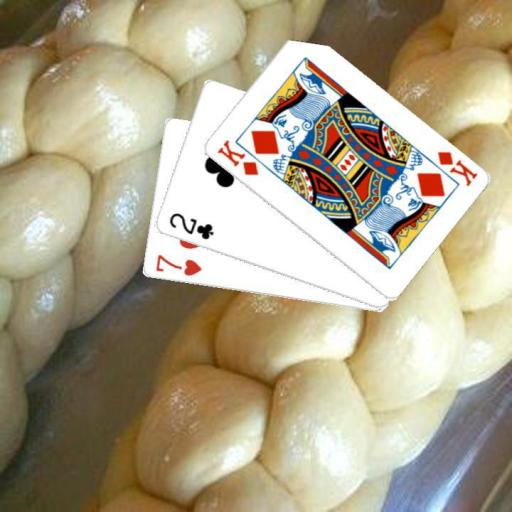2C: (166, 210, 215, 241)
7H: (153, 252, 204, 278)
KD: (214, 137, 260, 177), (433, 148, 479, 188)
